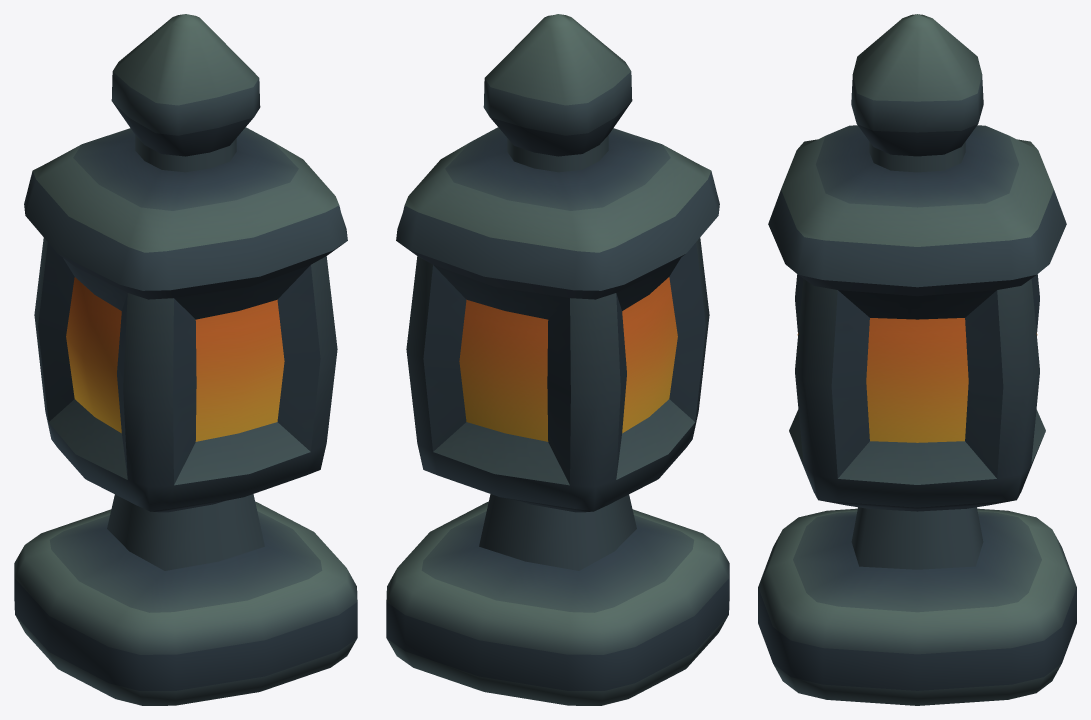
The model's file is lamp_pillar_top1_LOD_setup.fbx.
The picture shows the model from 3 angles, left to right: view 1: azimuth 30°, elevation 25°; view 2: azimuth 150°, elevation 25°; view 3: azimuth 270°, elevation 25°; orthographic projection.
Parts seen in each view (by area): view 1: lamp_pillar_top1_LOD0; view 2: lamp_pillar_top1_LOD0; view 3: lamp_pillar_top1_LOD0.
Part boxes in pixels (x1=…): lamp_pillar_top1_LOD0: x1=14, y1=14, x2=357, y2=705; lamp_pillar_top1_LOD0: x1=386, y1=14, x2=729, y2=705; lamp_pillar_top1_LOD0: x1=758, y1=14, x2=1076, y2=705.
Size of what is drawn, in the model's own units: 67.52 by 149 by 67.52.
